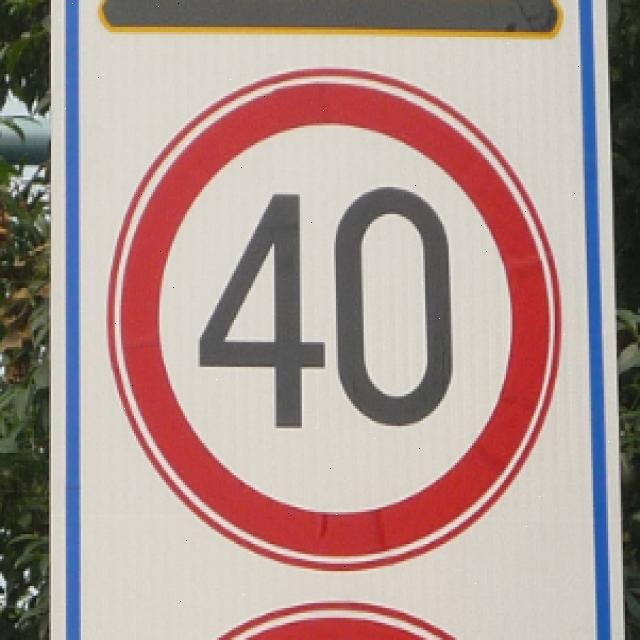speed limit 40: (103, 68, 565, 572)
